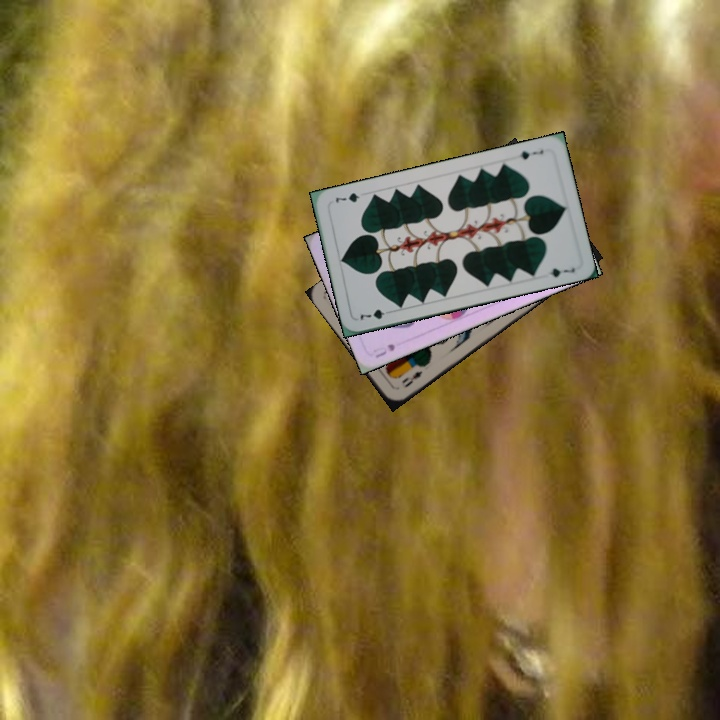EO: (398, 367, 425, 391)
G7: (356, 305, 395, 323), (516, 146, 546, 162)
SU: (369, 340, 398, 361)
